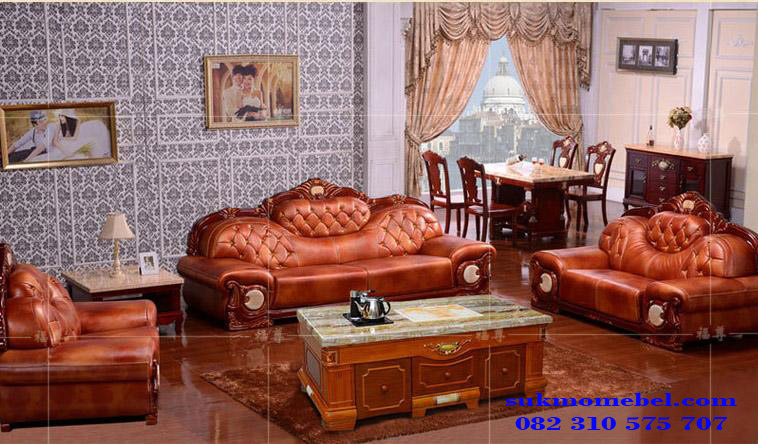Carving Chair: (187, 186, 502, 307), (528, 202, 758, 351), (6, 255, 174, 412)
Carving Table: (284, 302, 554, 422)
